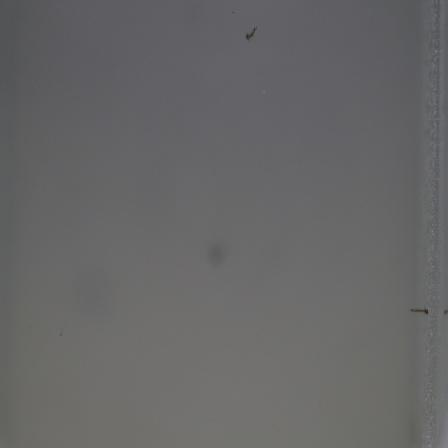Jentik-Nyamuk: (241, 21, 261, 47)
